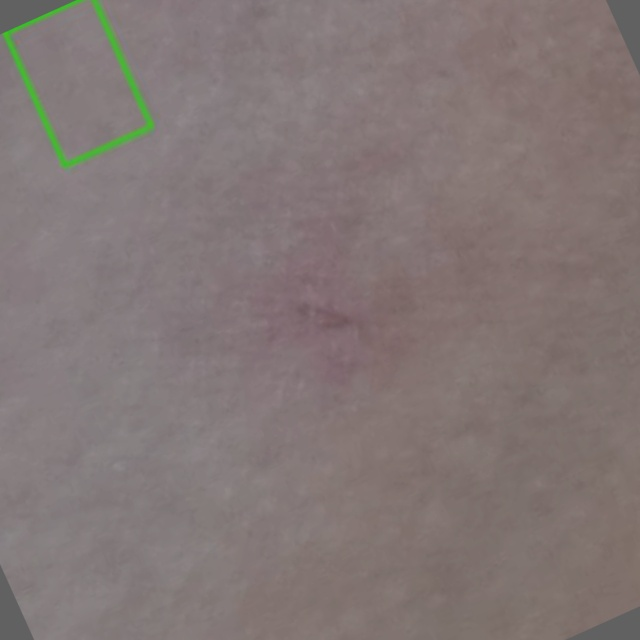Seborrheic Dermatitis: (5, 0, 151, 165)
